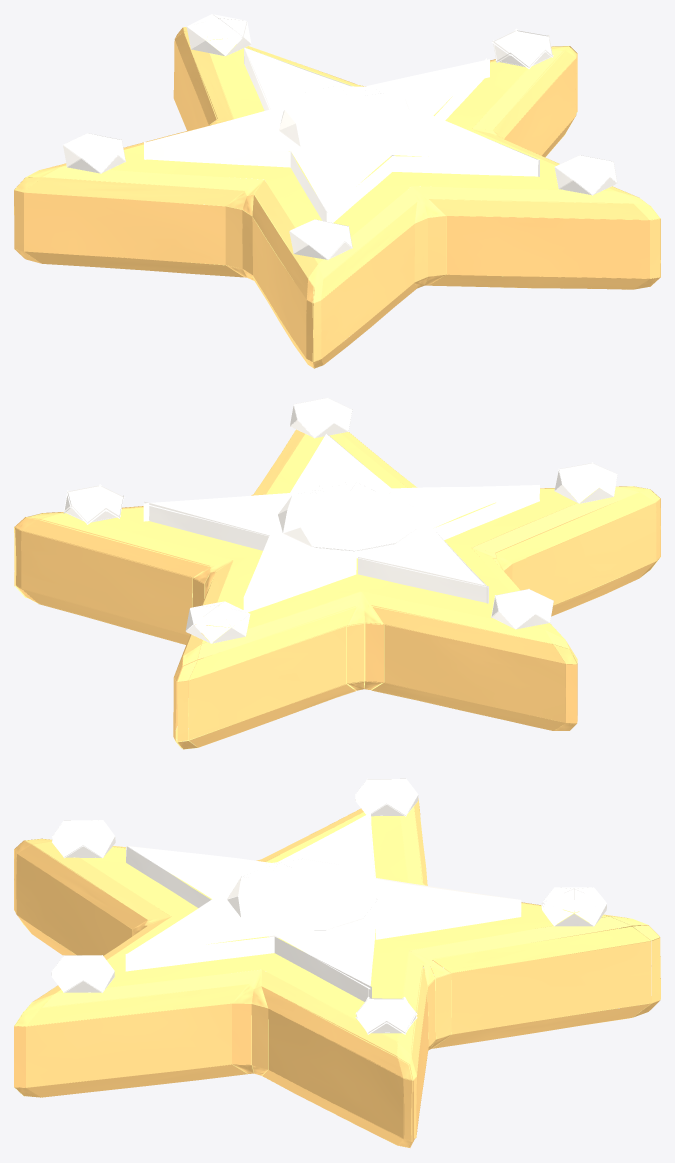
The model's file is xmas_gingerbread_star.glb.
3 renders of one model, top to bottom at view 1: azimuth 30°, elevation 25°; view 2: azimuth 150°, elevation 25°; view 3: azimuth 270°, elevation 25°, orthographic. The views are drawn at different scales.
Parts seen in each view (by area): view 1: GingerbreadStar; view 2: GingerbreadStar; view 3: GingerbreadStar.
Part boxes in pixels (x1,y1,x2,y2): GingerbreadStar: (14,14,660,368); GingerbreadStar: (14,397,660,749); GingerbreadStar: (14,778,660,1147).
Bounding box in the file's own units: 1.8 × 0.4347 × 1.72.
